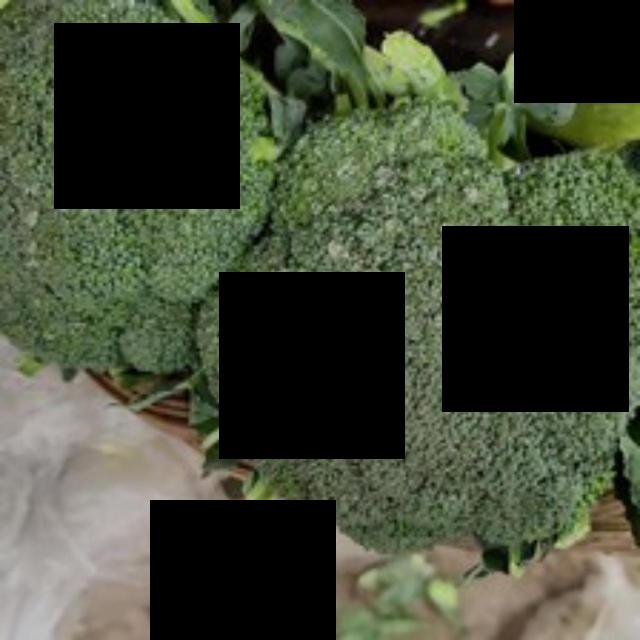broccoli: (205, 97, 640, 567)
